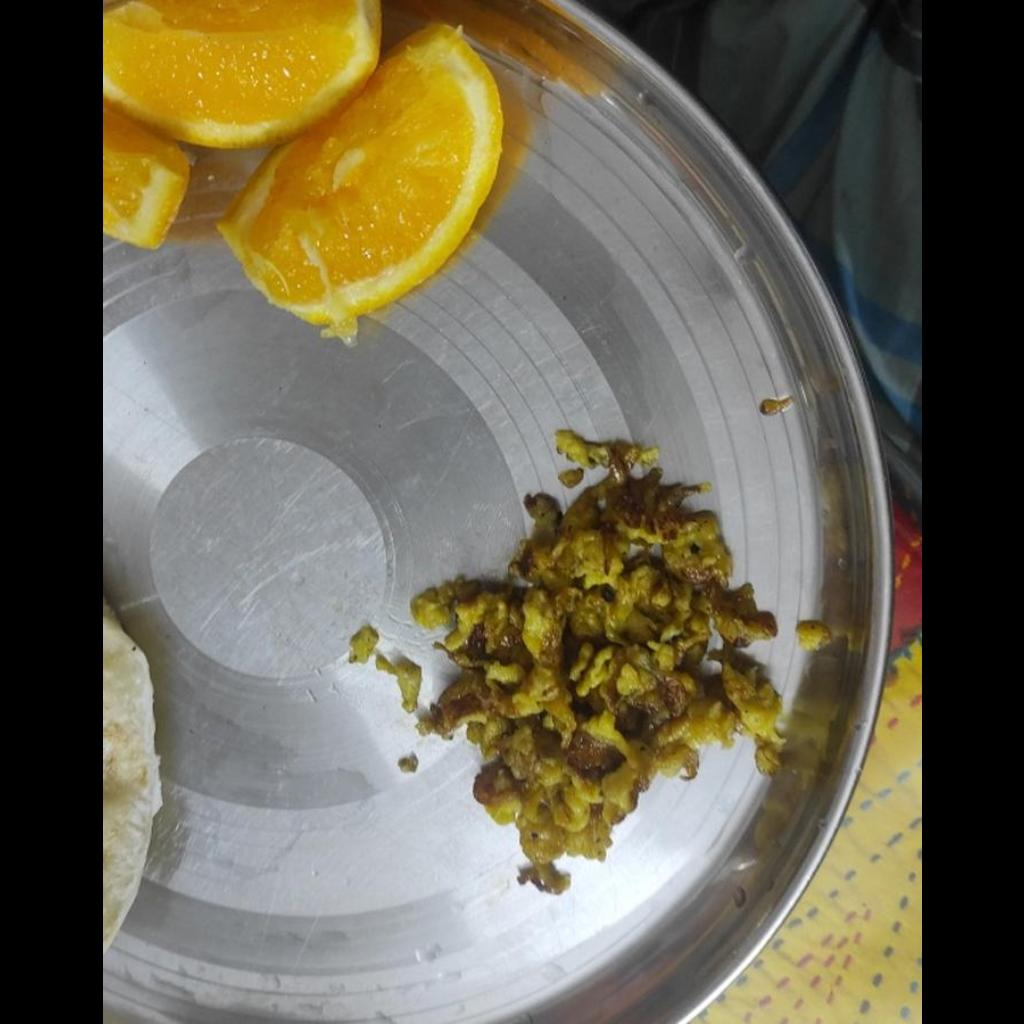chola: (410, 438, 780, 876)
orange: (103, 1, 510, 332)
